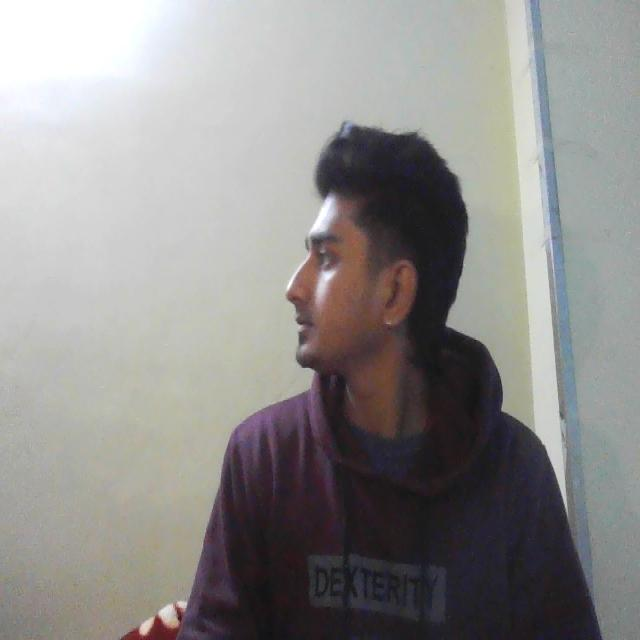real: (290, 148, 407, 369)
